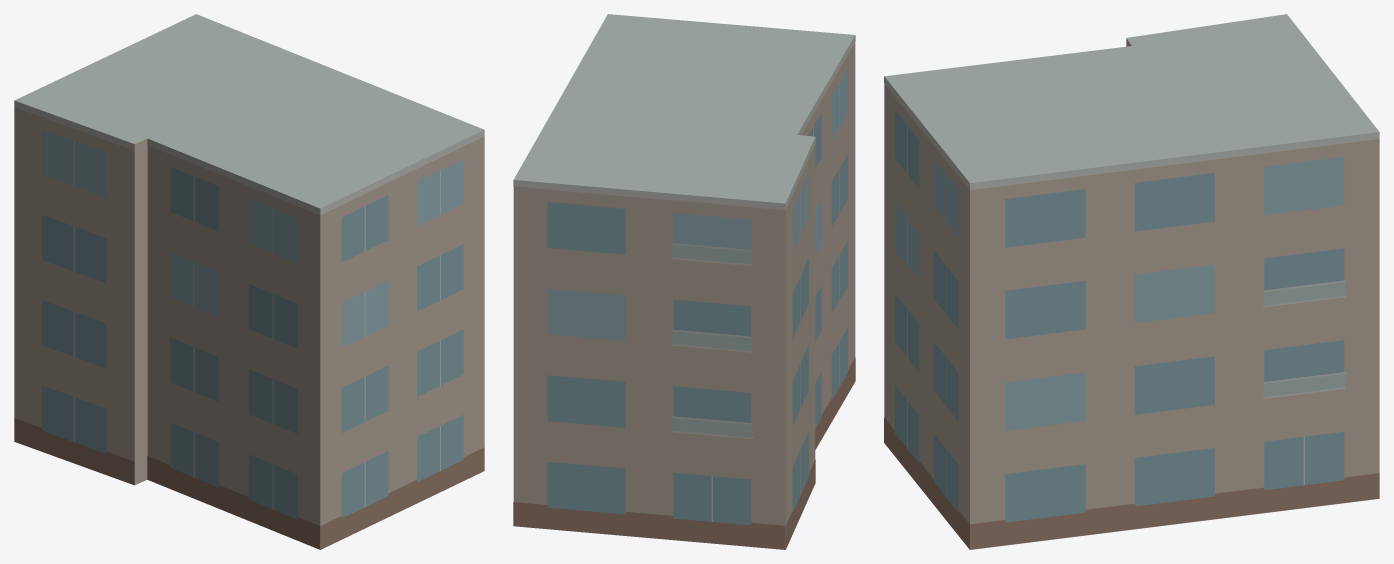
The model's file is survey-upis-33015691.glb.
3 renders of one model, left to right at view 1: azimuth 30°, elevation 25°; view 2: azimuth 150°, elevation 25°; view 3: azimuth 270°, elevation 25°, orthographic. The views are drawn at different scales.
Visible parts, largest first — view 1: survey-upis-33015691.tmp; view 2: survey-upis-33015691.tmp; view 3: survey-upis-33015691.tmp.
Part boxes in pixels (box(x1,y1,x2,y2)): survey-upis-33015691.tmp: box(14, 14, 484, 549); survey-upis-33015691.tmp: box(513, 14, 855, 549); survey-upis-33015691.tmp: box(884, 14, 1379, 549).
Bounding box in the file's own units: 12.54 × 12.66 × 15.51.
